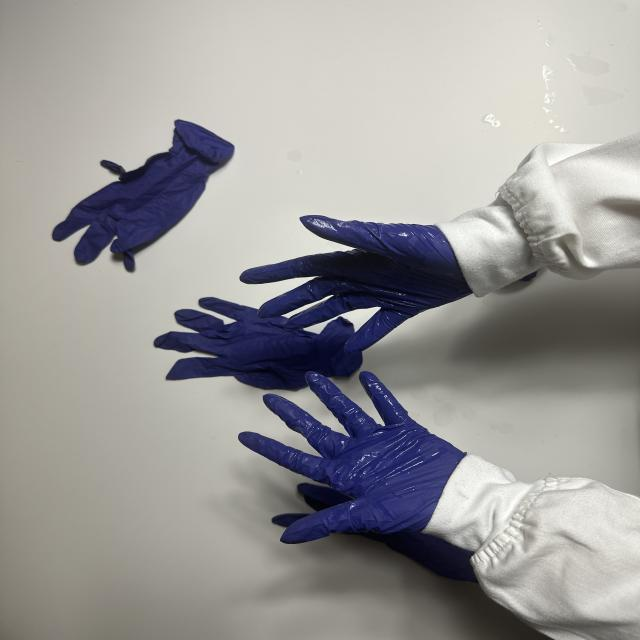gloves_contaminated: (239, 372, 465, 544), (240, 216, 472, 353)
